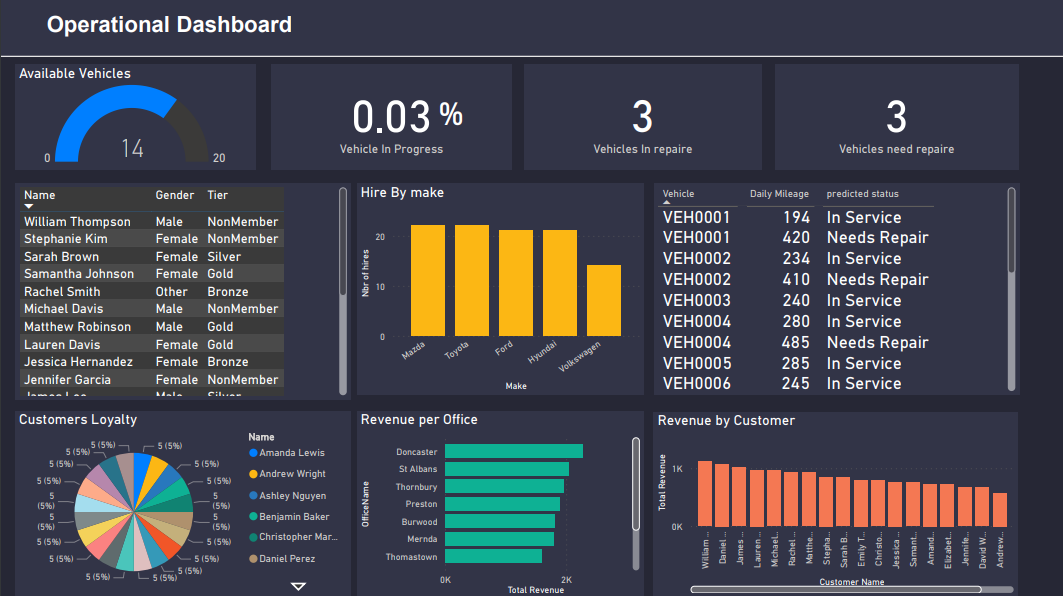

What the dashboard file says about the page in this screenshot:
{"tool":"powerbi","page":{"name":"operational","canvas":[1280,720],"ordinal":1},"visuals":[{"type":"shape","box":[0,0,1279.6,69.9],"z":0},{"type":"textbox","box":[50.7,12.3,335.9,43.9],"z":1000},{"type":"gauge","title":"Available Vehicles","fields":{"Y":["Table 2 (CarHire).Vehicles In Service"],"MaxValue":["CountNonNull(FleetData.VehicleId)"]},"box":[17.8,79.5,287.9,126.1],"z":2000},{"type":"card","fields":{"Values":["CarHire.In Progress"]},"box":[326.3,79.5,287.9,126.1],"z":3000},{"type":"textbox","box":[521,111.1,53.5,61.7],"z":4000},{"type":"tableEx","fields":{"Values":["Customer.CustomerName","Customer.CustomerGender","Customer.CustomerTier"]},"box":[17.8,222.1,403.1,259.1],"z":5000},{"type":"card","fields":{"Values":["FleetData.In repaire Vehicles"]},"box":[629.3,79.5,285.2,126.1],"z":6000},{"type":"card","fields":{"Values":["FleetData.needs repaire Vehicles"]},"box":[929.6,79.5,292,126.1],"z":7000},{"type":"columnChart","title":"Hire By make","fields":{"Category":["Table 2 (CarHire).Make"],"Y":["CountNonNull(Table 2 (CarHire).CustomerID)"]},"box":[427.8,222.1,344.1,253.6],"z":8000},{"type":"pieChart","title":"Customers Loyalty","fields":{"Category":["operation table.CustomerName"],"Y":["CountNonNull(operation table.CustomerID)"]},"box":[17.8,494.9,403.1,223.5],"z":9000},{"type":"barChart","title":"Revenue per Office","fields":{"Category":["Table 2 (CarHire).OfficeName"],"Y":["Sum(Table 2 (CarHire).Revenue)"]},"box":[427.8,494.9,344.1,224.9],"z":10000},{"type":"columnChart","title":"Revenue by Customer","fields":{"Category":["Table 2 (CarHire).CustomerName"],"Y":["Sum(Table 2 (CarHire).Revenue)"]},"box":[784.2,496.3,437.4,222.1],"z":11000},{"type":"tableEx","fields":{"Values":["operation table.VehicleId","Max(operation table.Daily Mileage)","operation table.predcted status"]},"box":[784.2,222.1,438.7,253.6],"z":12000}]}

Visuals, with their boxes in screenshot pixels (x1, y1, x2, y2), scaled from the page's 1280x720 canvas onto the 1063x596 screenshot:
shape: l=0, t=0, r=1062, b=58
textbox: l=42, t=10, r=321, b=47
"Available Vehicles" gauge: l=15, t=66, r=254, b=170
card - CarHire.In Progress: l=271, t=66, r=510, b=170
textbox: l=433, t=92, r=477, b=143
tableEx - Customer.CustomerName x Customer.CustomerGender: l=15, t=184, r=350, b=398
card - FleetData.In repaire Vehicles: l=523, t=66, r=759, b=170
card - FleetData.needs repaire Vehicles: l=772, t=66, r=1015, b=170
"Hire By make" columnChart: l=355, t=184, r=641, b=394
"Customers Loyalty" pieChart: l=15, t=410, r=350, b=595
"Revenue per Office" barChart: l=355, t=410, r=641, b=595
"Revenue by Customer" columnChart: l=651, t=411, r=1015, b=595
tableEx - operation table.VehicleId x Max(operation table.Daily Mileage): l=651, t=184, r=1016, b=394
